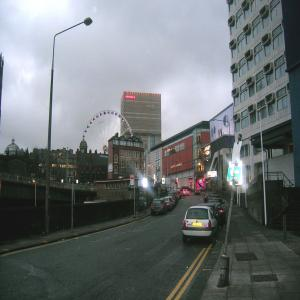Vehicle-registration-plate: (193, 223, 203, 228)
